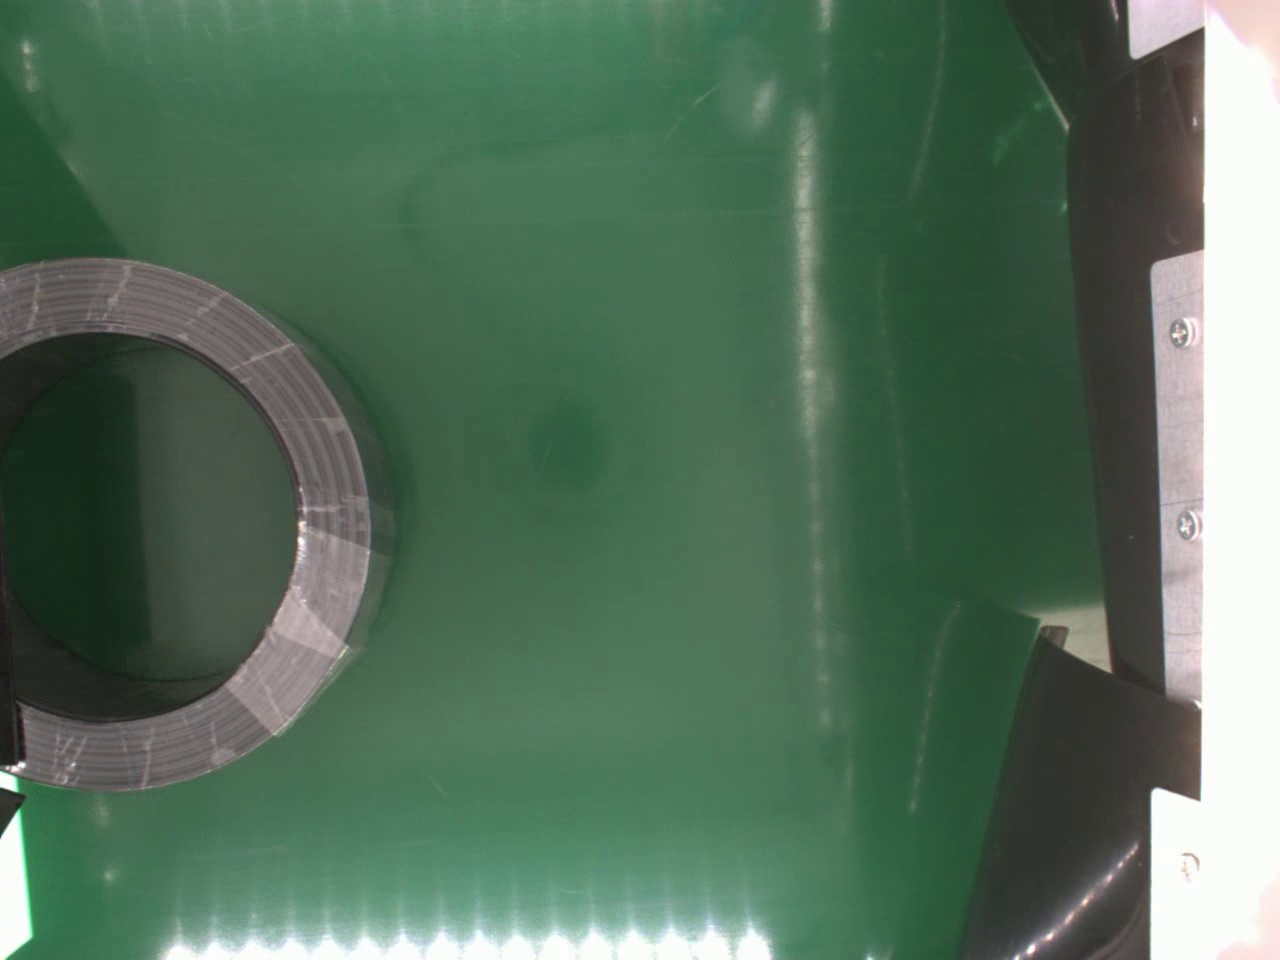black: (0, 254, 398, 795)
